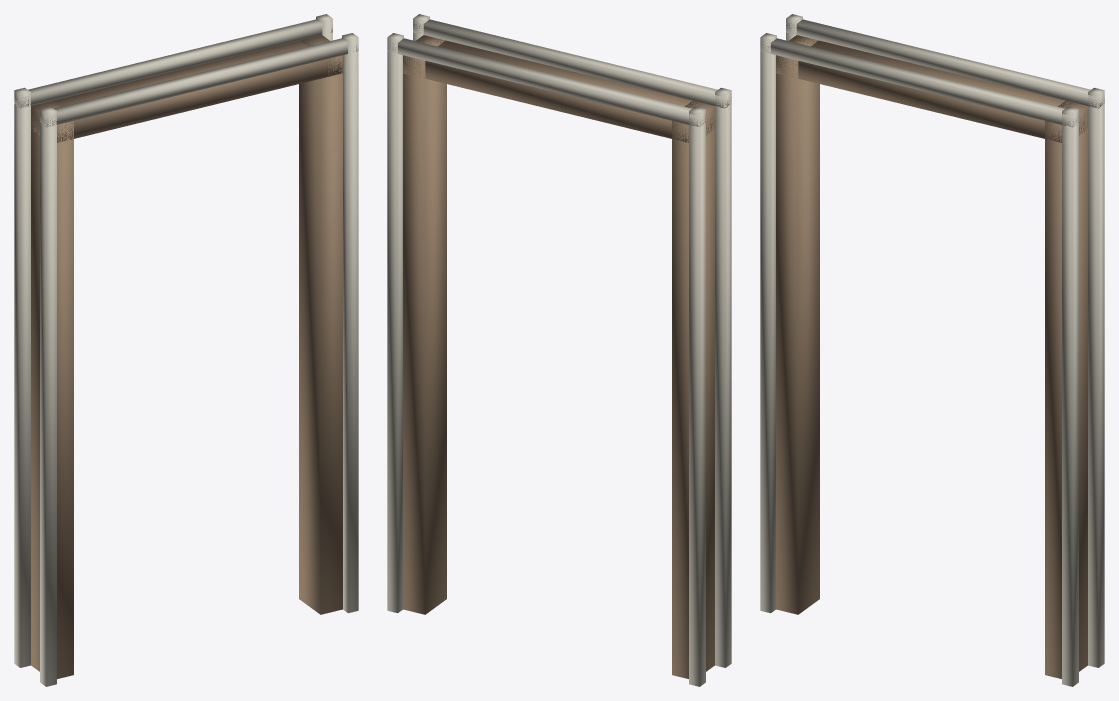
Rendered from doorway_painted_trim_w106_h220_d16.glb.
3 views of the same model, side by side, from view 1: azimuth 30°, elevation 25°; view 2: azimuth 150°, elevation 25°; view 3: azimuth 330°, elevation 25° (orthographic).
Visible parts, largest first — view 1: world; view 2: world; view 3: world.
Boxes of the visible parts, left/top/right/bottom form: world: left=14, top=14, right=358, bottom=686; world: left=387, top=14, right=731, bottom=686; world: left=760, top=14, right=1104, bottom=686.
Size of the model in its own units: 1.34 by 2.35 by 0.2378.
